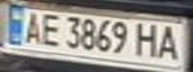3: (60, 15, 84, 49)
6: (93, 17, 115, 54)
8: (78, 16, 96, 52)
9: (109, 19, 133, 55)
A: (154, 22, 187, 61), (18, 9, 45, 45)
E: (36, 11, 63, 47)
H: (133, 20, 163, 58)
